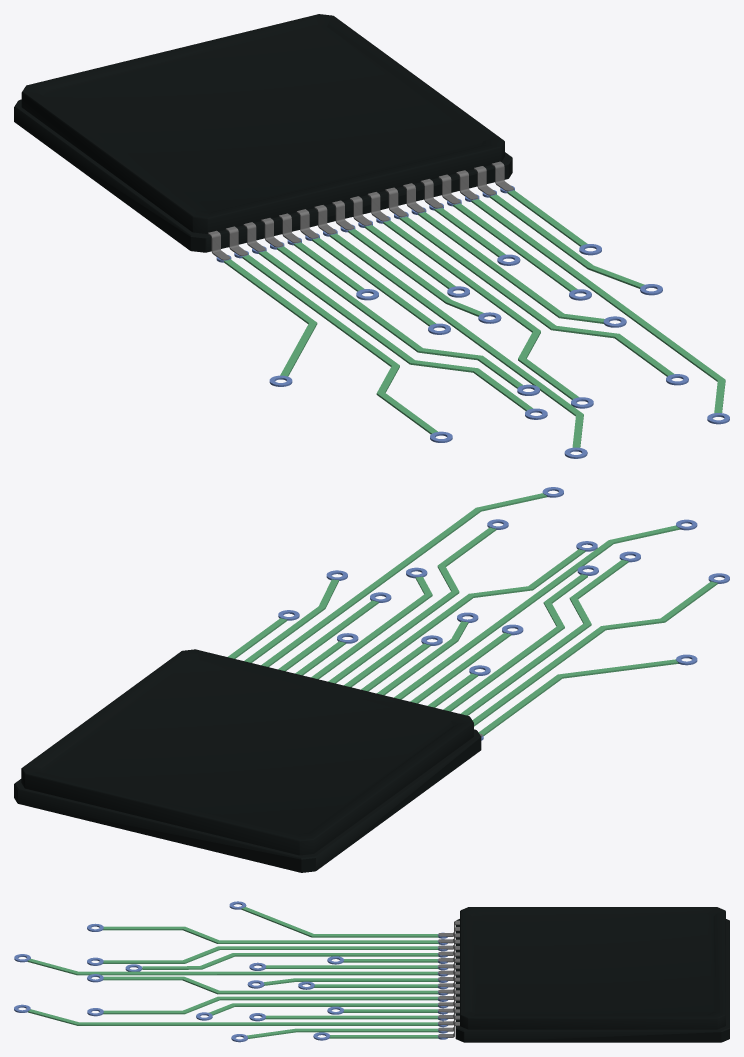
Rendered from cpu-draco.glb.
The picture shows the model from 3 angles, top to bottom: view 1: azimuth 30°, elevation 25°; view 2: azimuth 150°, elevation 25°; view 3: azimuth 270°, elevation 25°; orthographic projection. The views are drawn at different scales.
Parts seen in each view (by area): view 1: cpu, lines; view 2: cpu, lines; view 3: cpu, lines.
Part boxes in pixels (x1,y1,x2,y2): cpu: (14, 14, 512, 252); lines: (208, 161, 729, 458); cpu: (14, 649, 481, 872); lines: (228, 487, 729, 740); cpu: (455, 907, 729, 1042); lines: (14, 901, 459, 1042).
Bounding box in the file's own units: 10.1 × 0.8213 × 21.62.
